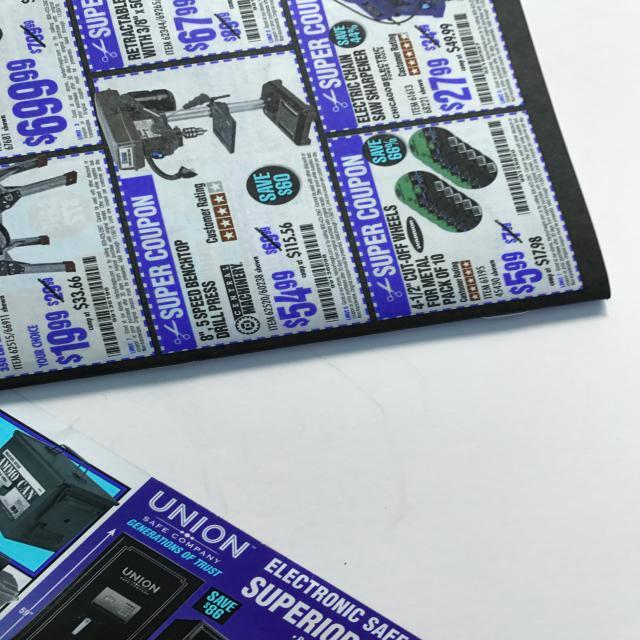paper: (0, 0, 614, 394), (0, 386, 431, 640)
